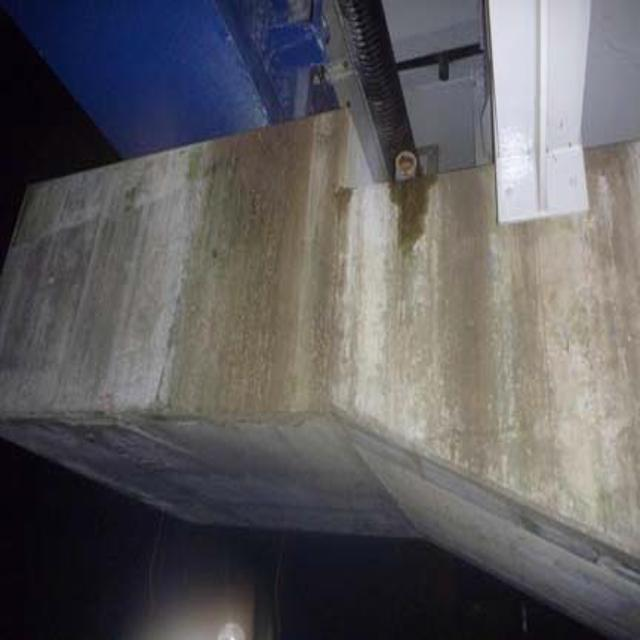leakage: (194, 113, 346, 467), (380, 144, 447, 253)
